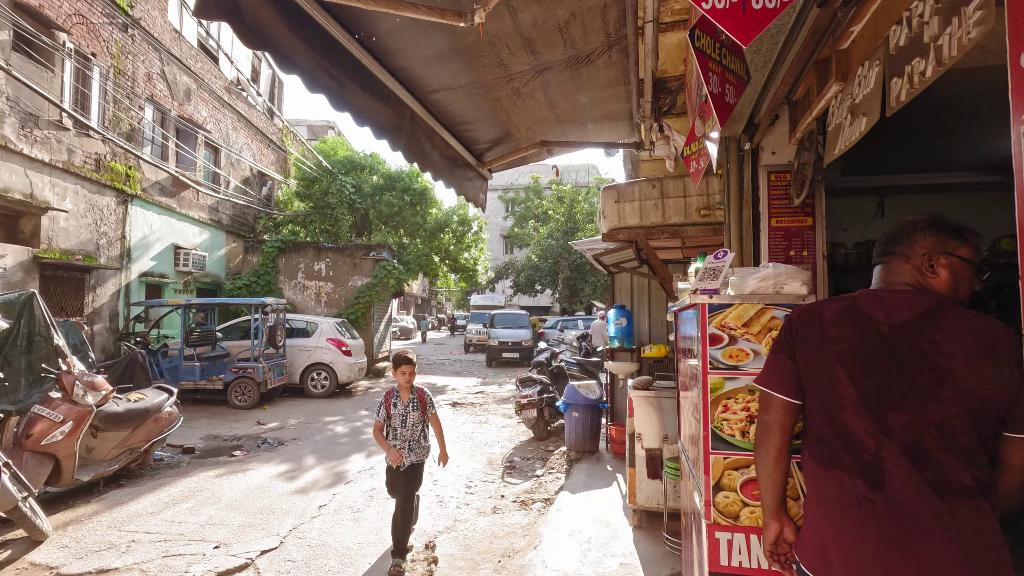dustbin: (559, 379, 607, 453)
garbage: (228, 443, 250, 459)
